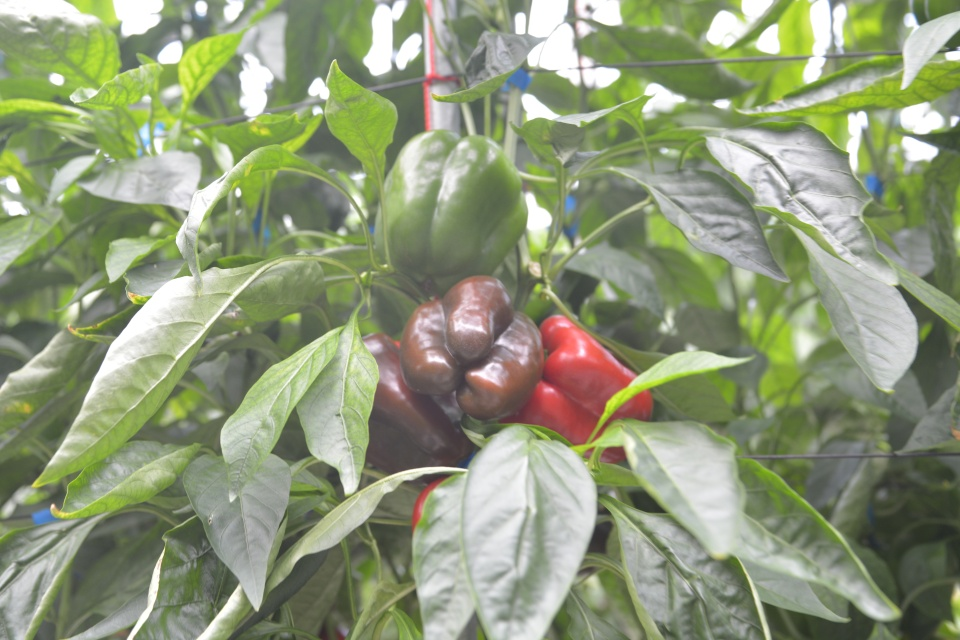fruit: (373, 128, 528, 296), (496, 312, 656, 467), (399, 272, 546, 424), (360, 330, 475, 487)
